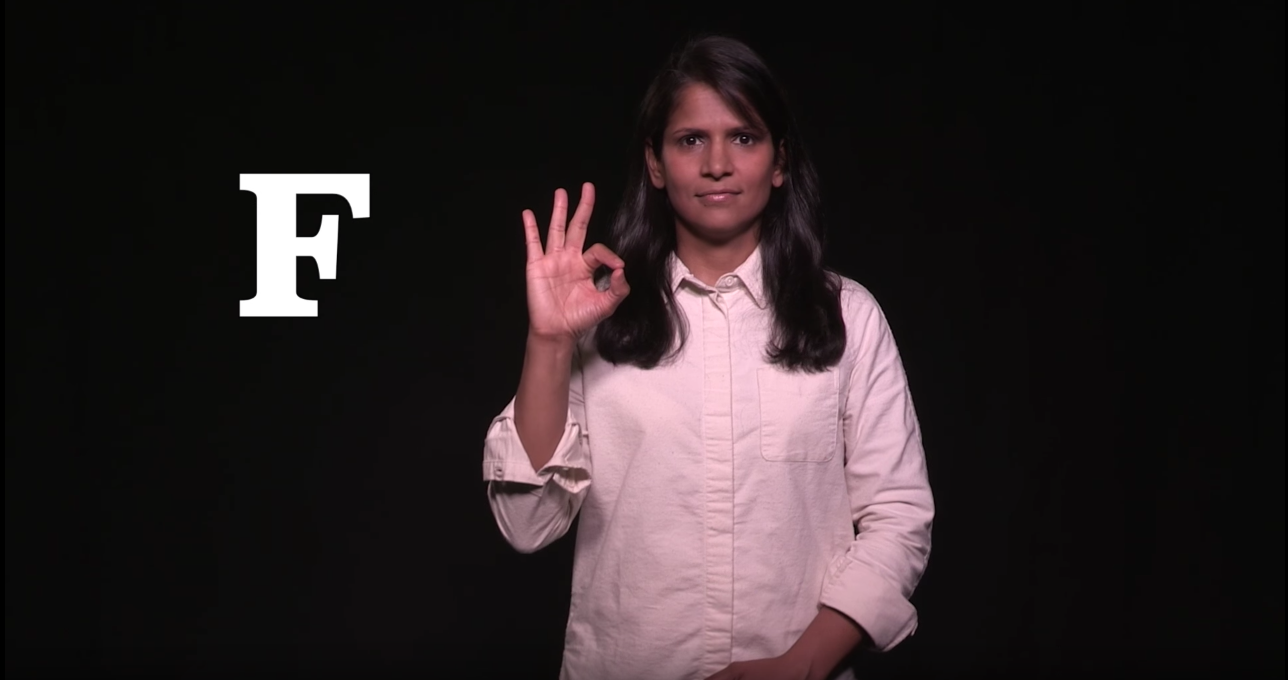f: (511, 170, 645, 351)
